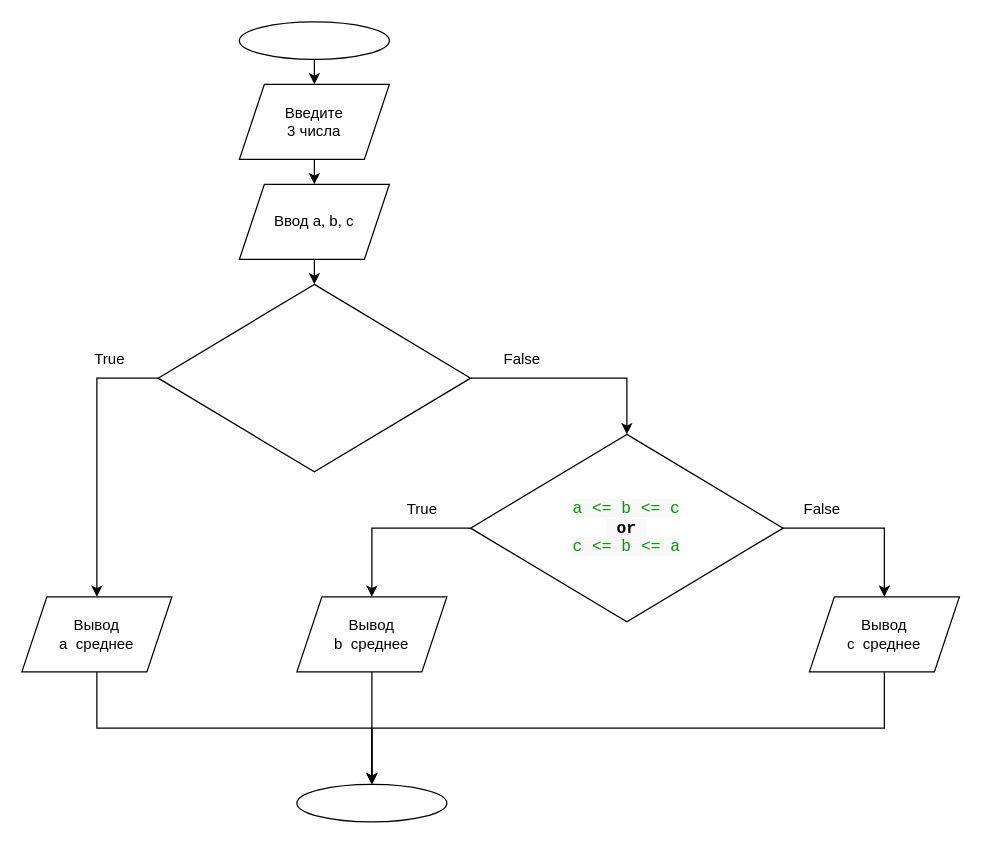
This 981x844 diagram has some shape labels left out. Here are the shapes that lost their labels. From the top down, the centre of each, then its label:
At [313,40]: "Начало".
At [314,377]: "b <= a <= c or c <= a <= b".
At [371,802]: "Конец".
